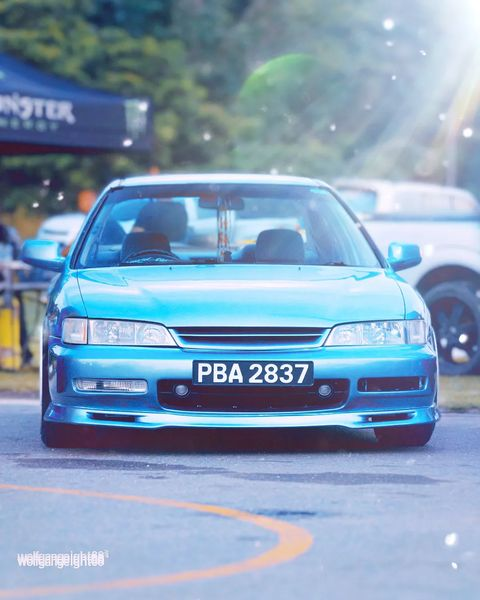License-Plate: (193, 360, 313, 384)
